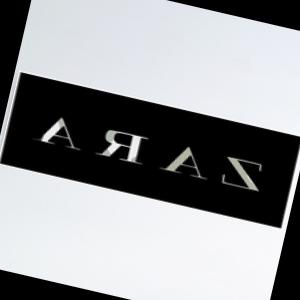zara: (30, 108, 272, 200)
